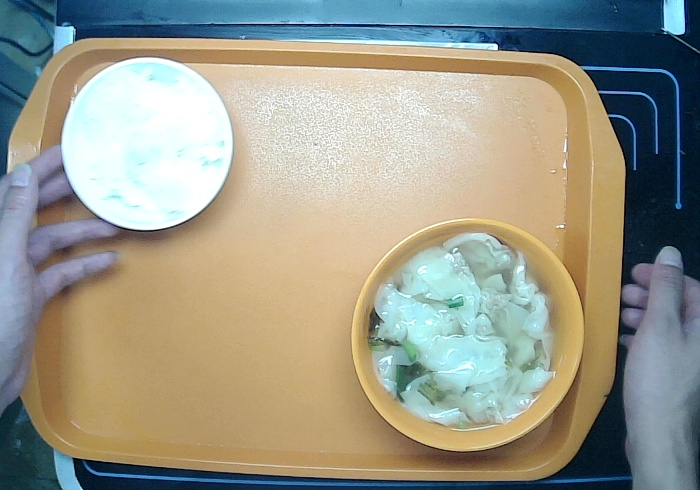NLDX-Fan_Wan: (57, 53, 236, 233)
NLDX-Hun_Tun_Wan: (346, 215, 590, 457)
